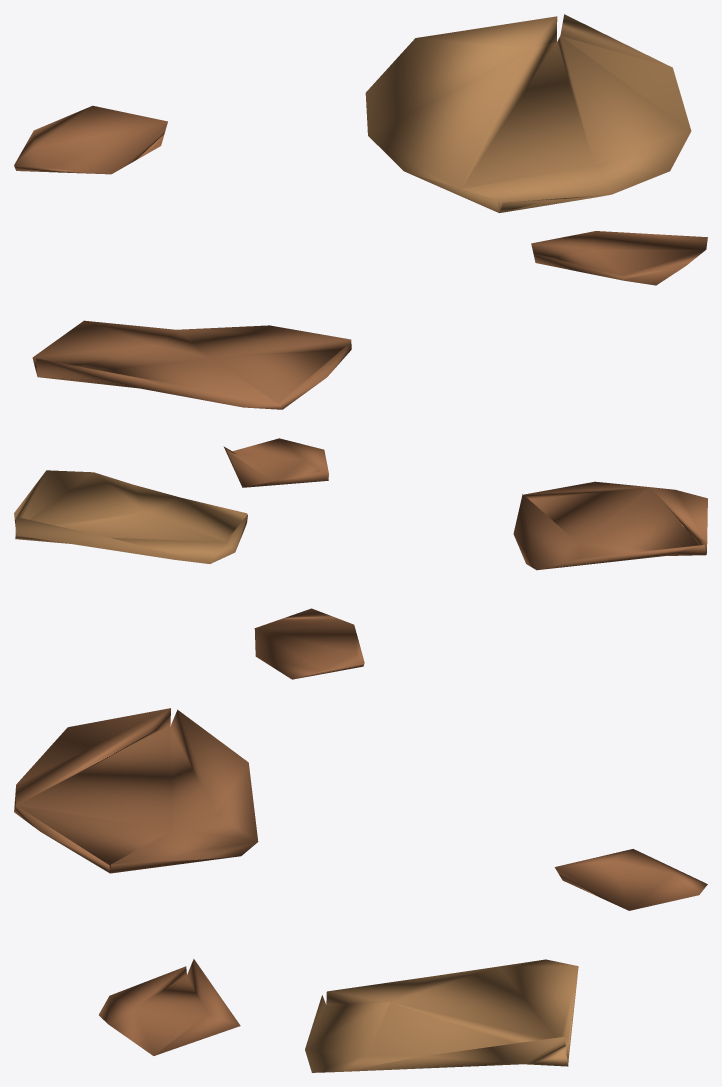
The model's file is canopy_gc_leaf_litter_a_lod2.glb.
The picture shows the model from 3 angles, top to bottom: view 1: azimuth 30°, elevation 25°; view 2: azimuth 150°, elevation 25°; view 3: azimuth 270°, elevation 25°; orthographic projection. The views are drawn at different scales.
Visible parts, largest first — view 1: canopy_gc_leaf_litter_a.001; view 2: canopy_gc_leaf_litter_a.001; view 3: canopy_gc_leaf_litter_a.001.
Part boxes in pixels (box(x1,y1,x2,y2)): canopy_gc_leaf_litter_a.001: box(14, 14, 707, 409); canopy_gc_leaf_litter_a.001: box(14, 438, 707, 679); canopy_gc_leaf_litter_a.001: box(14, 708, 707, 1072).
Bounding box in the file's own units: 4.68 × 0.4228 × 3.87.
